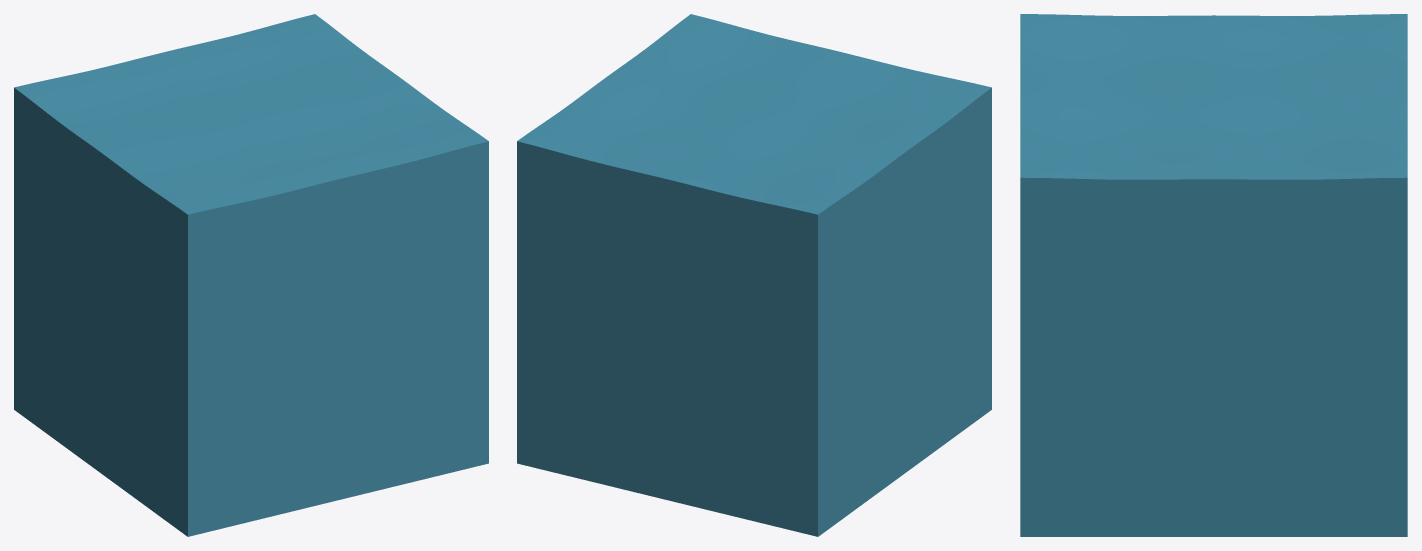
Rendered from slpool_wave43.glb.
3 renders of one model, left to right at view 1: azimuth 30°, elevation 25°; view 2: azimuth 150°, elevation 25°; view 3: azimuth 270°, elevation 25°, orthographic. The views are drawn at different scales.
Parts seen in each view (by area): view 1: poolWater; view 2: poolWater; view 3: poolWater.
Boxes of the visible parts, bbox=[...] form: poolWater: bbox=[14, 14, 488, 536]; poolWater: bbox=[517, 14, 991, 536]; poolWater: bbox=[1020, 14, 1407, 536].
Size of the model in its own units: 2 by 2.05 by 2.
